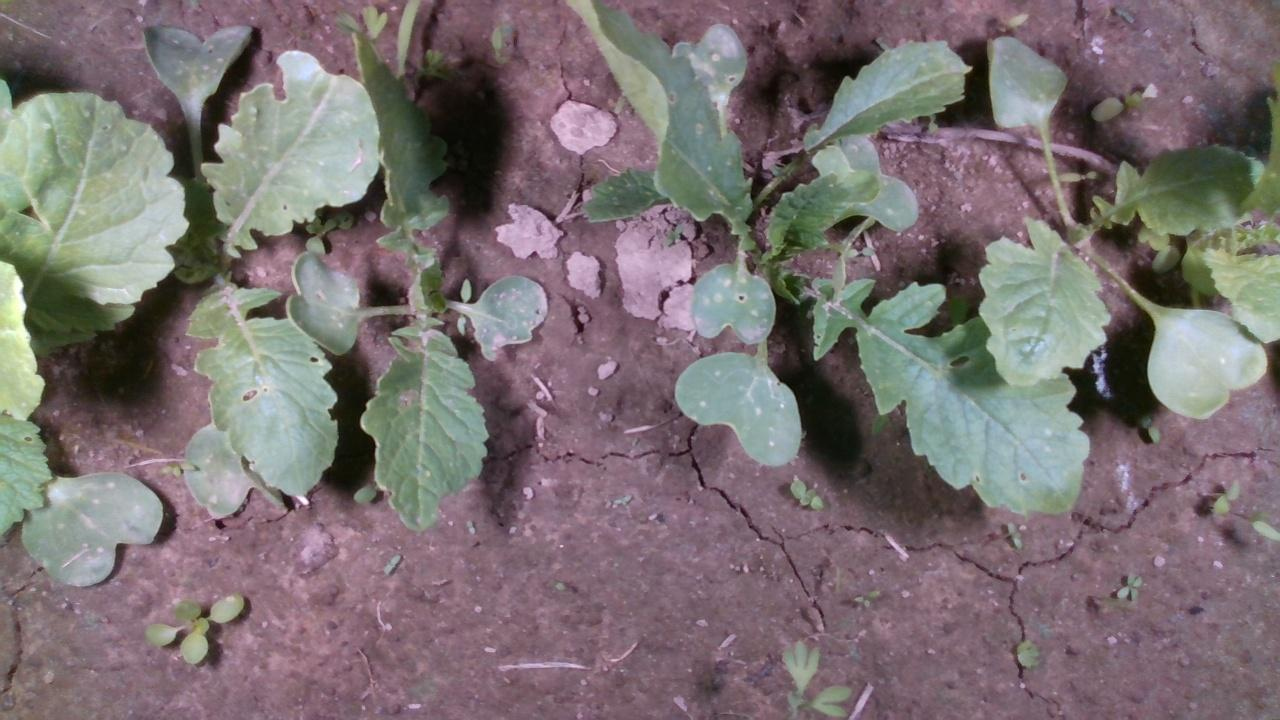weed: (135, 591, 246, 668), (785, 477, 825, 511), (1114, 570, 1142, 604), (1004, 519, 1022, 551), (381, 552, 401, 576)
